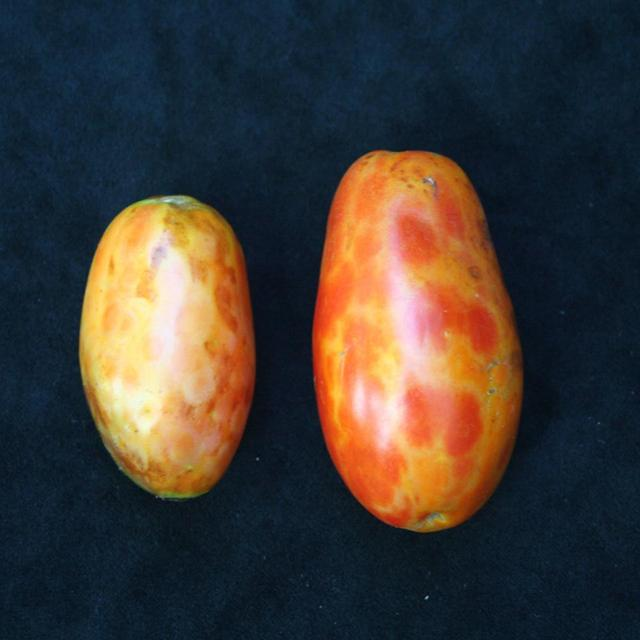Spotted wilt Virus Fruit: (64, 129, 223, 165)
